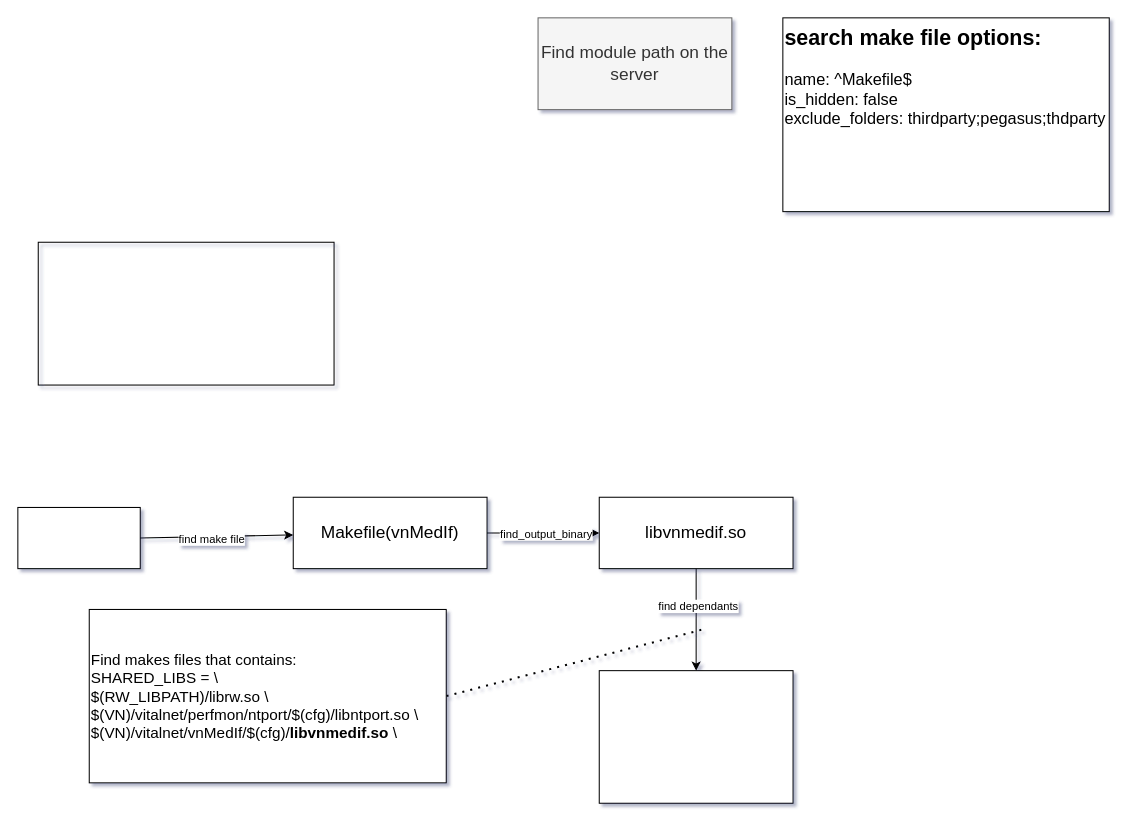
The diagram is 1134 pixels wide and 827 high, and some of its shapes have lost their labels. Here are the shapes that lost their labels. From the top down, the centre of each, then its label:
At pixel 185 313: "file format: all: $( OBJDIR )/$( EXETARGET) EXETARGET =voipstreamctrl".
At pixel 78 537: "vnMedIf".
At pixel 695 736: "VoidIPStreamCtrl aCollector startCollector SIPServerCollector .....".
